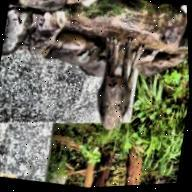boar: (88, 32, 148, 136)
